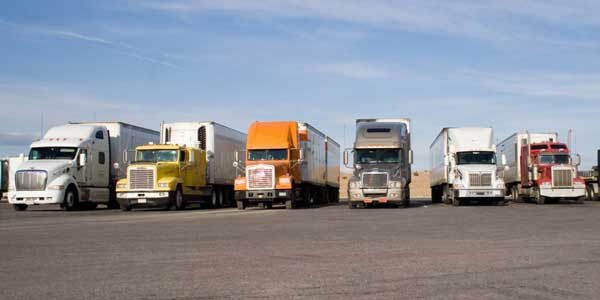truck: (8, 112, 118, 213), (117, 121, 236, 212), (234, 121, 342, 215), (497, 132, 589, 206), (427, 128, 506, 208), (348, 116, 414, 208)
